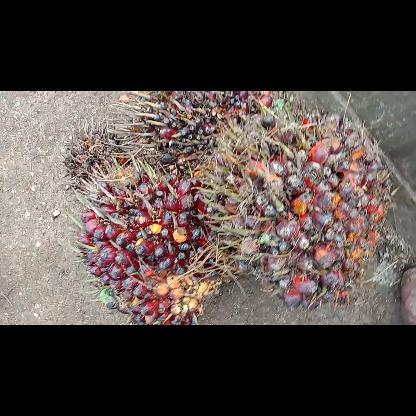TBS abnormal: (105, 91, 259, 177), (57, 117, 135, 197)
TBS masak: (192, 101, 396, 309), (64, 154, 238, 324)
